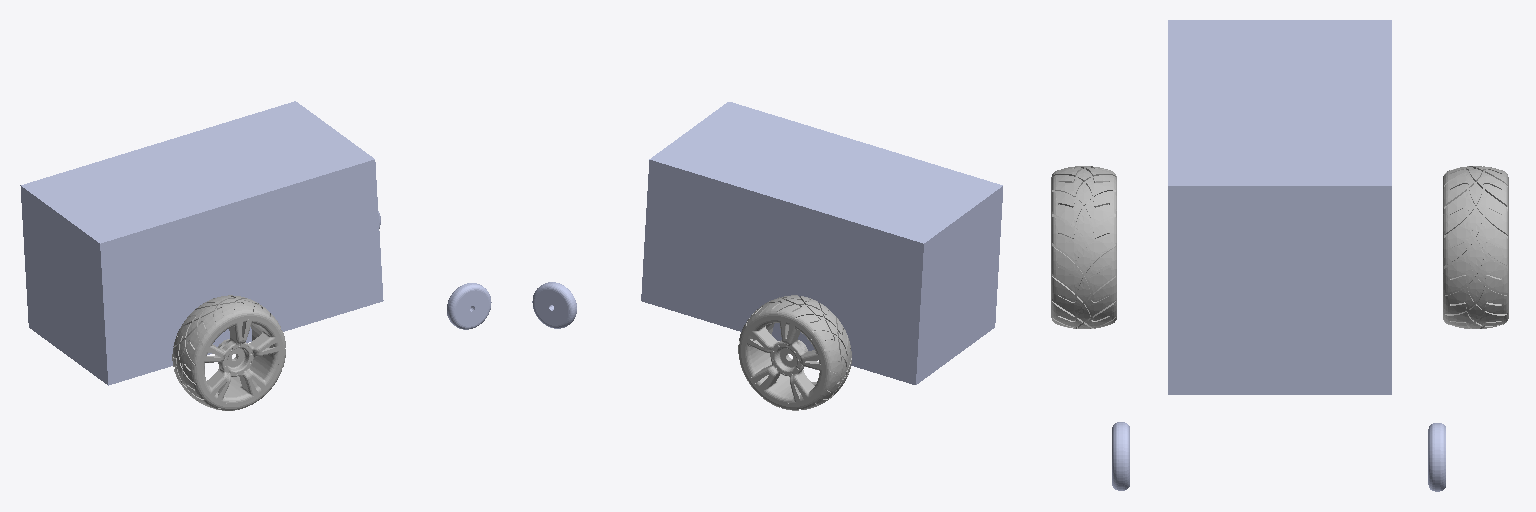
The robot description file, URDF, robot "caddyboturdf":
<?xml version="1.0" encoding="utf-8"?>
<!-- This URDF was automatically created by SolidWorks to URDF Exporter! Originally created by [author] ([email redacted]) 
     Commit Version: 1.6.0-4-g7f85cfe  Build Version: 1.6.7995.38578
     For more information, please see http://wiki.ros.org/sw_urdf_exporter -->
<robot
  name="caddyboturdf">
  
  <link name="base_footprint"/>

  <joint name="base_joint" type="fixed">
    <parent link="base_footprint"/>
    <child link="base_link"/>
    <origin xyz="0.0 0.0 0.32" rpy="0 -0.06 0"/>
  </joint>

  <link
    name="base_link">
    <inertial>
      <origin
        xyz="0.13001 0.0030047 0.020182"
        rpy="0 0 0" />
      <mass
        value="23.189" />
      <inertia
        ixx="0.1628"
        ixy="3.4324E-05"
        ixz="-0.0063706"
        iyy="0.21523"
        iyz="-5.4253E-05"
        izz="0.22576" />
    </inertial>
    <visual>
      <origin
        xyz="0 0 0"
        rpy="0 0 0" />
      <geometry>
        <box size="1 0.5 0.5" />
      </geometry>
      <material
        name="">
        <color
          rgba="0.792156862745098 0.819607843137255 0.933333333333333 1" />
      </material>
    </visual>
    <collision>
      <origin
        xyz="0 0 0"
        rpy="0 0 0" />
      <geometry>
        <box size="1 0.5 0.5" />
      </geometry>
    </collision>
  </link>
  
  <link
    name="LeftF_Link">
    <inertial>
      <origin
        xyz="3.5645E-09 2.0638E-08 0.02868"
        rpy="0 0 0" />
      <mass
        value="3.1488" />
      <inertia
        ixx="0.036853"
        ixy="-7.098E-10"
        ixz="-9.4404E-10"
        iyy="0.036853"
        iyz="5.3754E-10"
        izz="0.059899" />
    </inertial>
    <visual>
      <origin
        xyz="0 0 0"
        rpy="0 0 0" />
      <geometry>
        <mesh
          filename="package://caddybot_urdf/meshes/LeftF_Link.STL" />
      </geometry>
      <material
        name="">
        <color
          rgba="0.75294 0.75294 0.75294 1" />
      </material>
    </visual>
    <collision>
      <origin
        xyz="0 0 0"
        rpy="0 0 0" />
      <geometry>
        <mesh
          filename="package://caddybot_urdf/meshes/LeftF_Link.STL" />
      </geometry>
    </collision>
  </link>
  <joint
    name="LeftFlink"
    type="continuous">
    <origin
      xyz="-0.1625 -0.47151 -0.15967"
      rpy="-1.5708 0 0" />
    <parent
      link="base_link" />
    <child
      link="LeftF_Link" />
    <axis
      xyz="0 0 -1" />
  </joint>
  <link
    name="RightF_Link">
    <inertial>
      <origin
        xyz="5.47624412483572E-09 -4.71908490409789E-09 -0.0286797314543985"
        rpy="0 0 0" />
      <mass
        value="3.1488296265046" />
      <inertia
        ixx="0.036853305692685"
        ixy="5.45140823185881E-10"
        ixz="-1.69602894516381E-09"
        iyy="0.0368533056763454"
        iyz="-9.32672289049548E-10"
        izz="0.0598990431182657" />
    </inertial>
    <visual>
      <origin
        xyz="0 0 0"
        rpy="0 0 0" />
      <geometry>
        <mesh
          filename="package://caddybot_urdf/meshes/RightF_Link.STL" />
      </geometry>
      <material
        name="">
        <color
          rgba="0.752941176470588 0.752941176470588 0.752941176470588 1" />
      </material>
    </visual>
    <collision>
      <origin
        xyz="0 0 0"
        rpy="0 0 0" />
      <geometry>
        <mesh
          filename="package://caddybot_urdf/meshes/RightF_Link.STL" />
      </geometry>
    </collision>
  </link>
  <joint
    name="RightFlink"
    type="continuous">
    <origin
      xyz="-0.1625 0.47151 -0.15967"
      rpy="-1.5708 0 0" />
    <parent
      link="base_link" />
    <child
      link="RightF_Link" />
    <axis
      xyz="0 0 -1" />
  </joint>
  <link
    name="LB_Link">
    <inertial>
      <origin
        xyz="0 -1.38777878078145E-17 0"
        rpy="0 0 0" />
      <mass
        value="0.672889345058735" />
      <inertia
        ixx="0.00102415281934837"
        ixy="-9.64236297623981E-50"
        ixz="9.32002799941477E-19"
        iyy="0.00102415281934837"
        iyz="-3.93279156307764E-35"
        izz="0.00188210863417053" />
    </inertial>
    <visual>
      <origin
        xyz="0 0 0"
        rpy="0 0 0" />
      <geometry>
        <mesh
          filename="package://caddybot_urdf/meshes/LB_Link.STL" />
      </geometry>
      <material
        name="">
        <color
          rgba="0.792156862745098 0.819607843137255 0.933333333333333 1" />
      </material>
    </visual>
    <collision>
      <origin
        xyz="0 0 0"
        rpy="0 0 0" />
      <geometry>
        <mesh
          filename="package://caddybot_urdf/meshes/LB_Link.STL" />
      </geometry>
    </collision>
  </link>
  <joint
    name="LBlink"
    type="continuous">
    <origin
      xyz="0.748 -0.35316 -0.299"
      rpy="-1.5708 0 0" />
    <parent
      link="base_link" />
    <child
      link="LB_Link" />
    <axis
      xyz="0 0 -1" />
  </joint>
  <link
    name="RB_Link">
    <inertial>
      <origin
        xyz="0 -1.38777878078145E-17 0"
        rpy="0 0 0" />
      <mass
        value="0.672889345058735" />
      <inertia
        ixx="0.00102415281934837"
        ixy="1.70075227112675E-20"
        ixz="-1.96517608339373E-18"
        iyy="0.00102415281934837"
        iyz="-5.32937046757169E-21"
        izz="0.00188210863417053" />
    </inertial>
    <visual>
      <origin
        xyz="0 0 0"
        rpy="0 0 0" />
      <geometry>
        <mesh
          filename="package://caddybot_urdf/meshes/RB_Link.STL" />
      </geometry>
      <material
        name="">
        <color
          rgba="0.792156862745098 0.819607843137255 0.933333333333333 1" />
      </material>
    </visual>
    <collision>
      <origin
        xyz="0 0 0"
        rpy="0 0 0" />
      <geometry>
        <mesh
          filename="package://caddybot_urdf/meshes/RB_Link.STL" />
      </geometry>
    </collision>
  </link>
  <joint
    name="RBlink"
    type="continuous">
    <origin
      xyz="0.753 0.35 -0.299"
      rpy="-1.5708 0 0" />
    <parent
      link="base_link" />
    <child
      link="RB_Link" />
    <axis
      xyz="0 0 -1" />
  </joint>


<!--         gazebo plugin  -->     
  <gazebo reference="base_link">
    <mu1>0.1</mu1>
    <mu2>0.1</mu2>
    <kp>500000.0</kp>
    <kd>10.0</kd>
    <minDepth>0.001</minDepth>
    <maxVel>0.22</maxVel>
    <fdir1>1 0 0</fdir1>
    <material>Gazebo/Grey</material>
  </gazebo>
  
  <gazebo reference="LeftF_Link">
    <mu1>0.1</mu1>
    <mu2>0.1</mu2>
    <kp>500000.0</kp>
    <kd>10.0</kd>
    <minDepth>0.001</minDepth>
    <maxVel>0.22</maxVel>
    <fdir1>1 0 0</fdir1>
    <material>Gazebo/Blue</material>
  </gazebo>
  
  <gazebo reference="RightF_Link">
    <mu1>0.1</mu1>
    <mu2>0.1</mu2>
    <kp>500000.0</kp>
    <kd>10.0</kd>
    <minDepth>0.001</minDepth>
    <maxVel>0.22</maxVel>
    <fdir1>1 0 0</fdir1>
    <material>Gazebo/Blue</material>
  </gazebo>
  
  <gazebo reference="LB_Link">
    <mu1>0.1</mu1>
    <mu2>0.1</mu2>
    <kp>500000.0</kp>
    <kd>10.0</kd>
    <minDepth>0.001</minDepth>
    <maxVel>0.22</maxVel>
    <fdir1>1 0 0</fdir1>
    <material>Gazebo/Red</material>
  </gazebo>
  
  <gazebo reference="RB_Link">
    <mu1>0.1</mu1>
    <mu2>0.1</mu2>
    <kp>500000.0</kp>
    <kd>10.0</kd>
    <minDepth>0.001</minDepth>
    <maxVel>0.22</maxVel>
    <fdir1>1 0 0</fdir1>
    <material>Gazebo/Red</material>
  </gazebo>
  
<gazebo>
  <plugin name="caddy_controller" filename="libgazebo_ros_diff_drive.so">
    <updateRate>40</updateRate>
    <leftJoint>LeftF_Link</leftJoint>
    <rightJoint>RightF_Link</rightJoint>
    <wheelSeparation>1</wheelSeparation>
    <wheelDiameter>0.310</wheelDiameter>
    <wheelAcceleration>1.0</wheelAcceleration>
    <wheelTorque>20</wheelTorque>
    <commandTopic>cmd_vel</commandTopic>
    <odometryTopic>odom</odometryTopic>
    <odometryFrame>odom</odometryFrame>
    <robotBaseFrame>base_footprint</robotBaseFrame>
    <odometrySource>1</odometrySource>
    <publishWheelTF>false</publishWheelTF>
    <publishOdom>true</publishOdom>
    <publishWheelJointState>true</publishWheelJointState>
    <legacyMode>false</legacyMode>
  </plugin>
</gazebo>
</robot>

--- Facts derived from the render (not from the file) ---
The picture shows the robot from 3 angles, left to right: view 1: azimuth 30°, elevation 25°; view 2: azimuth 150°, elevation 25°; view 3: azimuth 270°, elevation 25°; orthographic projection.
Robot: caddyboturdf — 6 links, 5 joints (4 continuous, 1 fixed); root link base_footprint; default pose: all joints at 0.
Links seen in each view (by area): view 1: base_link, LeftF_Link, LB_Link; view 2: base_link, RightF_Link, RB_Link; view 3: base_link, RightF_Link, LeftF_Link, LB_Link, RB_Link.
Link boxes in pixels (x1,y1,x2,y2): base_link: (20,101,383,385); LeftF_Link: (172,295,285,410); LB_Link: (447,283,491,329); base_link: (641,102,1002,384); RightF_Link: (738,295,851,410); RB_Link: (532,282,576,328); base_link: (1168,20,1391,394); RightF_Link: (1443,166,1508,328); LeftF_Link: (1051,166,1116,328); LB_Link: (1112,422,1129,490); RB_Link: (1428,423,1445,491).
Bounding box of the posed robot: 1.36 × 1.02 × 0.6302 m (x, y, z).
Meshes: 4 distinct files referenced, 4 mesh visuals loaded (4 binary STL).
